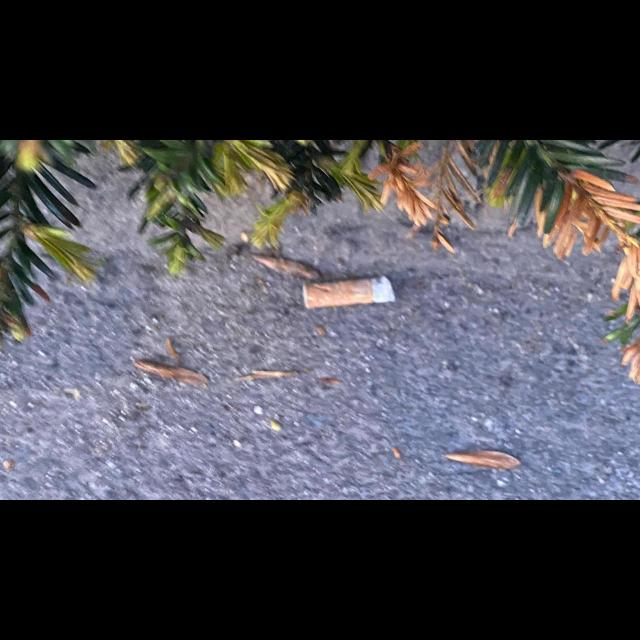cigarette: (302, 275, 396, 309)
